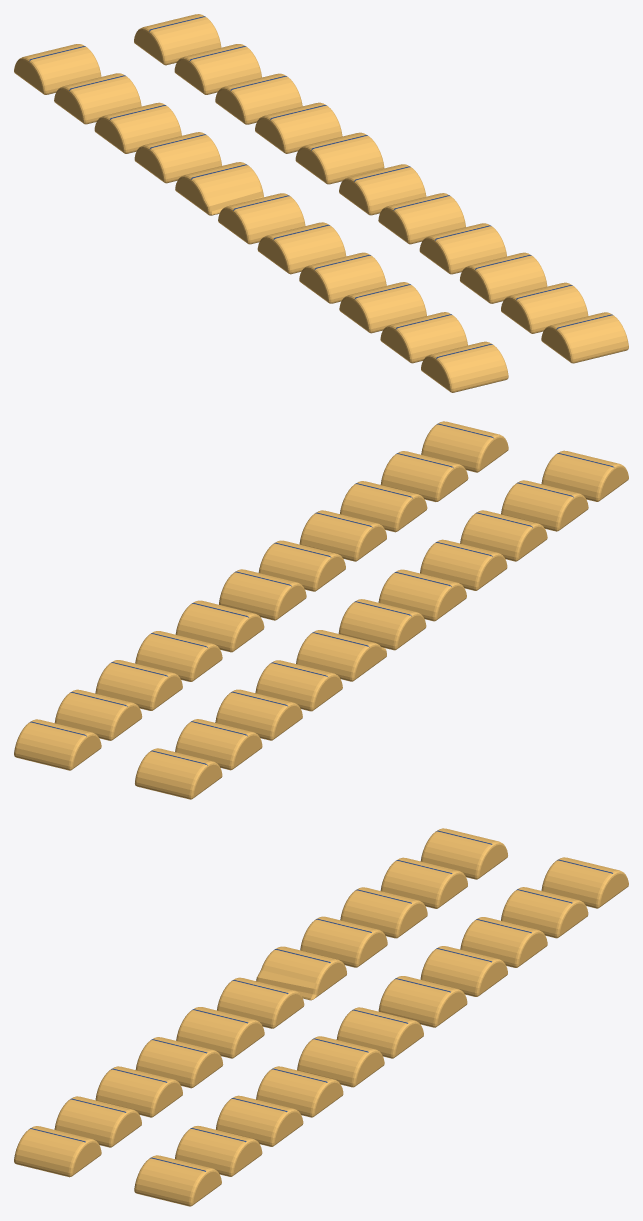
The model's file is soso.fbx.
3 renders of one model, top to bottom at view 1: azimuth 30°, elevation 25°; view 2: azimuth 150°, elevation 25°; view 3: azimuth 330°, elevation 25°, orthographic.
Parts seen in each view (by area): view 1: 円柱.010; view 2: 円柱.010; view 3: 円柱.010.
Part boxes in pixels (x1,y1,x2,y2): 円柱.010: [14, 14, 628, 392]; 円柱.010: [14, 421, 628, 799]; 円柱.010: [14, 828, 628, 1206].
Bounding box in the file's own units: 277 × 37.12 × 1178.
Materials: 1 (1 with a texture image).
